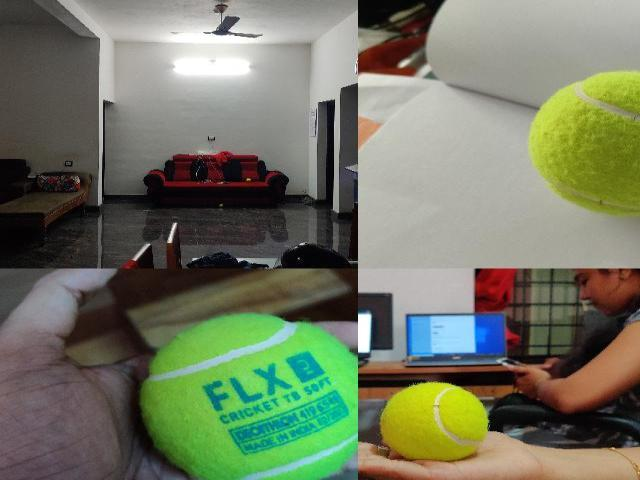tennis-ball: (139, 315, 357, 479), (526, 69, 639, 217), (382, 382, 486, 458), (246, 178, 250, 182), (219, 204, 223, 207)
